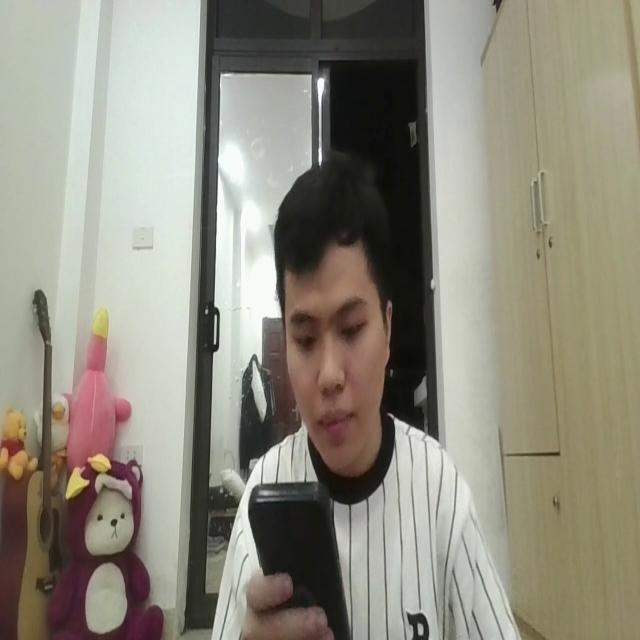phone: (249, 473, 353, 640)
student: (211, 157, 519, 640)
